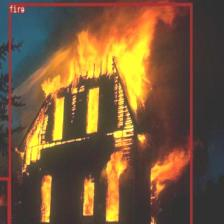fire: (8, 3, 192, 224)
